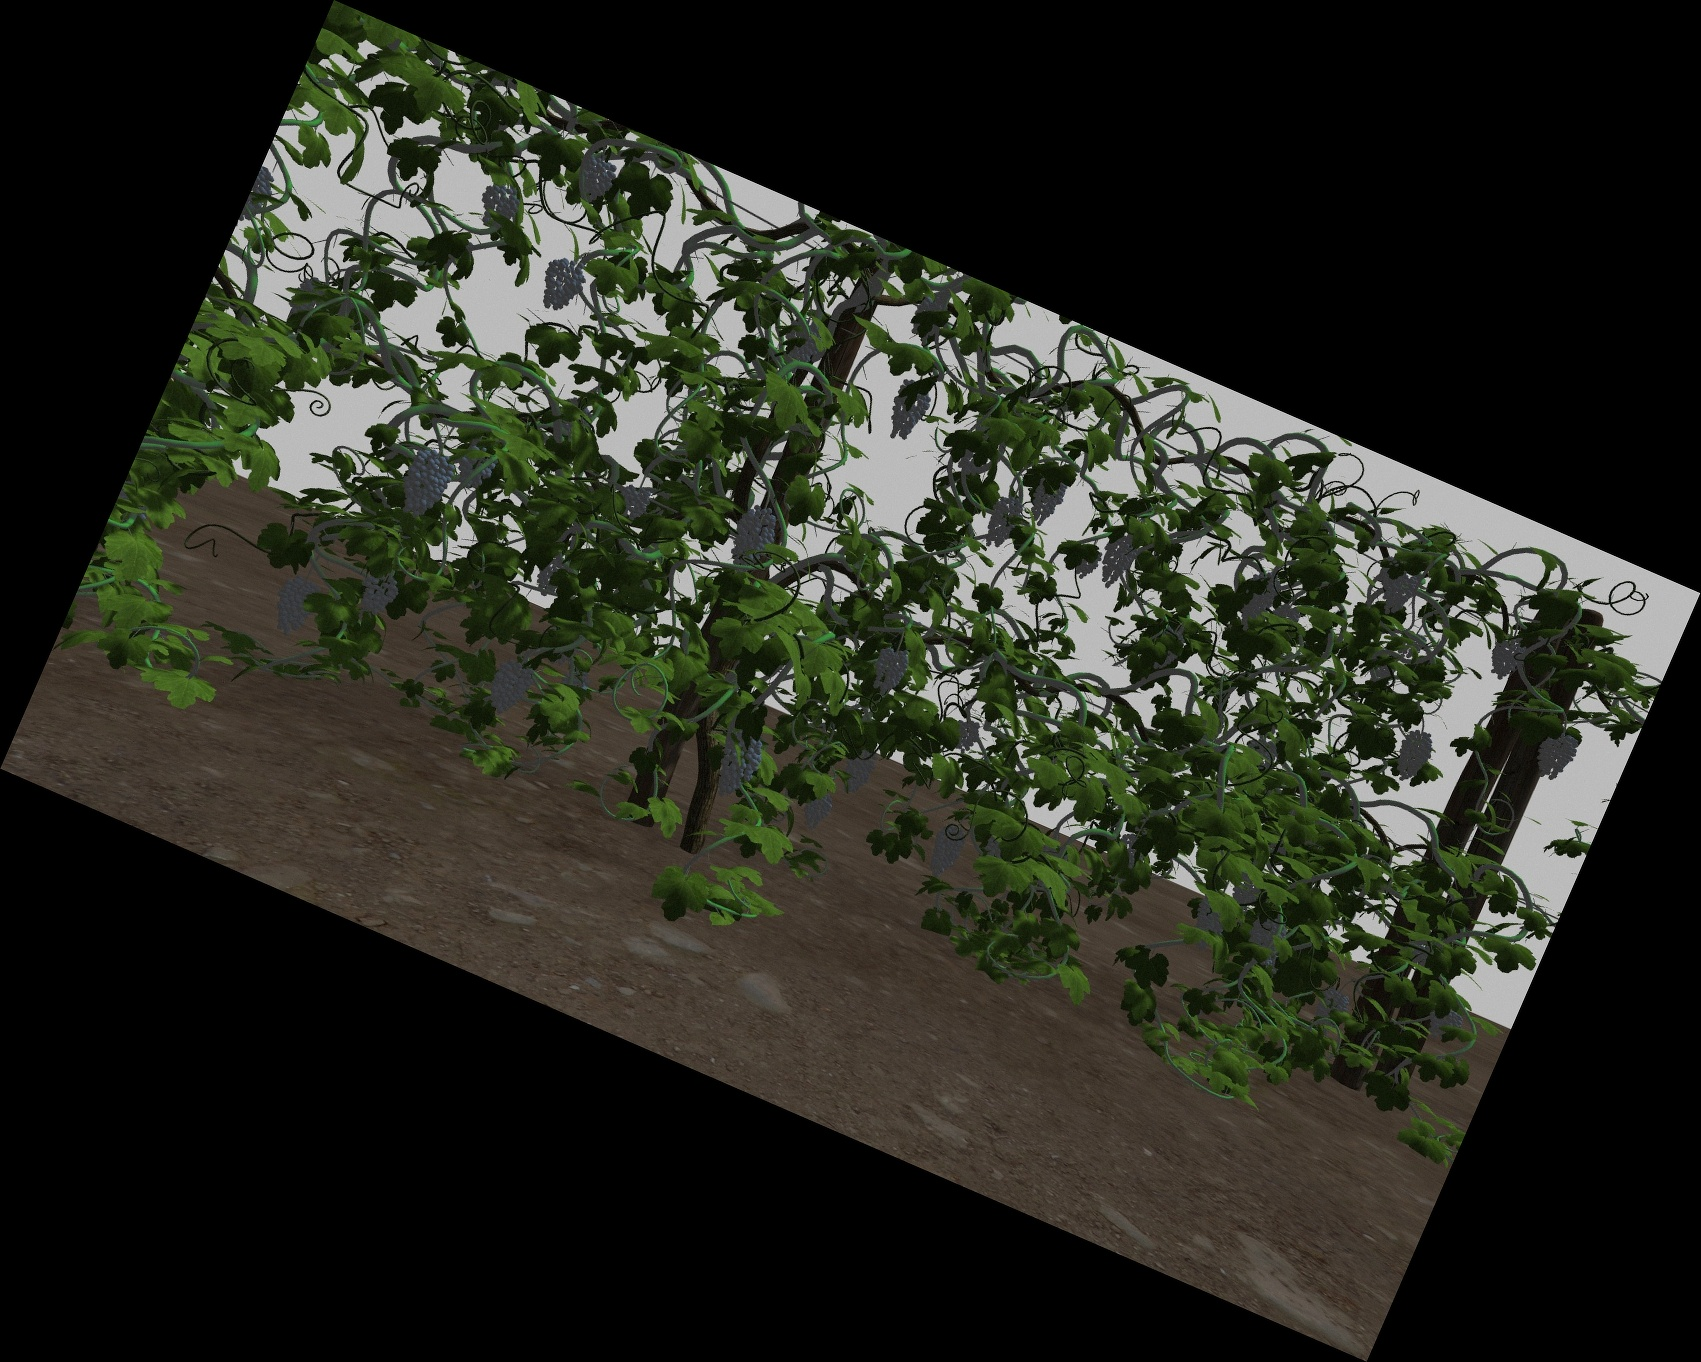grape: (403, 452, 447, 516), (714, 732, 756, 796), (737, 507, 774, 568), (889, 381, 926, 442), (274, 580, 314, 634), (542, 259, 582, 311), (491, 660, 529, 714), (578, 154, 614, 203), (1242, 575, 1273, 630), (1101, 536, 1133, 588), (931, 826, 962, 878), (359, 571, 395, 616), (1538, 732, 1575, 777), (1398, 730, 1429, 781), (479, 186, 517, 227), (845, 746, 877, 794), (873, 649, 903, 698), (989, 493, 1016, 548), (1490, 638, 1522, 680), (1033, 478, 1060, 525), (1251, 917, 1285, 952), (618, 484, 650, 518), (1427, 1008, 1459, 1042), (1319, 990, 1349, 1026), (461, 452, 491, 489), (1194, 902, 1227, 931), (805, 795, 830, 831), (1376, 563, 1404, 593), (1391, 575, 1411, 616), (953, 720, 978, 748)
